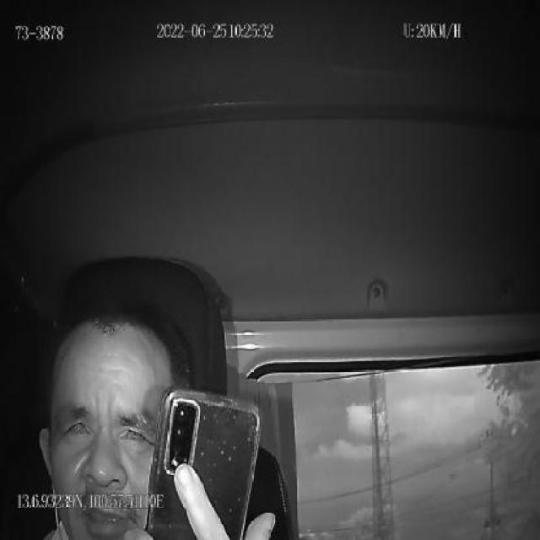phone: (146, 383, 261, 540)
